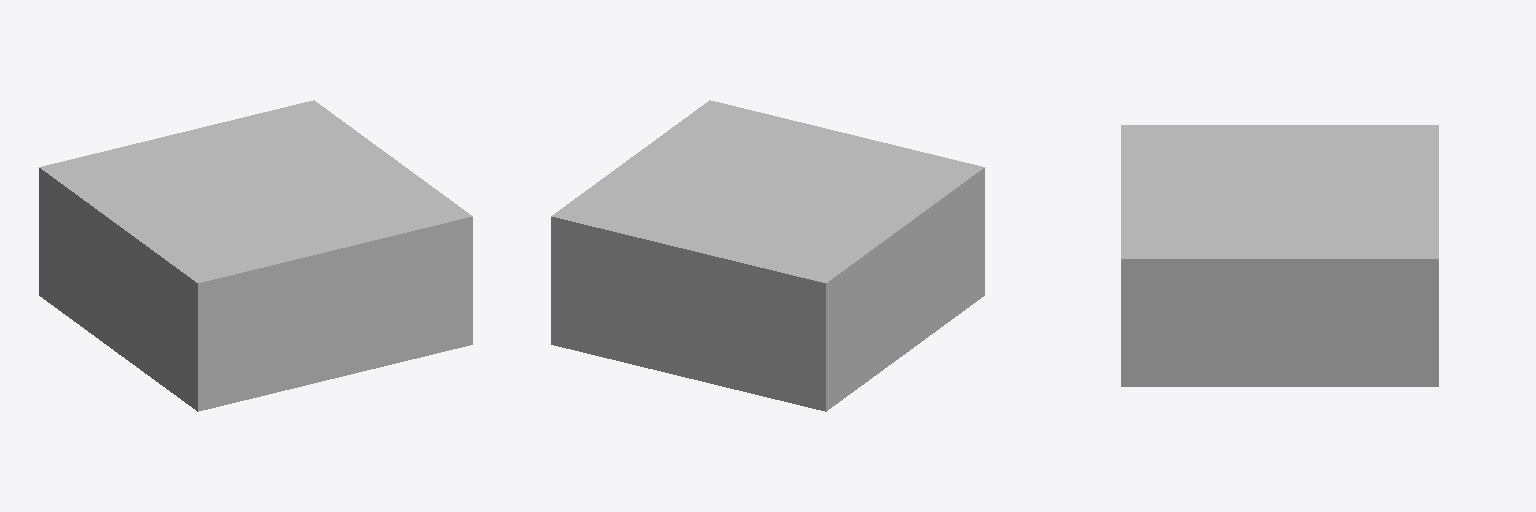
The model's file is light_test.obj.
3 renders of one model, left to right at view 1: azimuth 30°, elevation 25°; view 2: azimuth 150°, elevation 25°; view 3: azimuth 270°, elevation 25°, orthographic.
Visible parts, largest first — view 1: Cube_Cube.001; view 2: Cube_Cube.001; view 3: Cube_Cube.001.
Part boxes in pixels (x1,y1,x2,y2): Cube_Cube.001: (39,100,472,411); Cube_Cube.001: (551,100,984,411); Cube_Cube.001: (1121,125,1438,386).
Bounding box in the file's own units: 18.1 × 8.07 × 18.1.